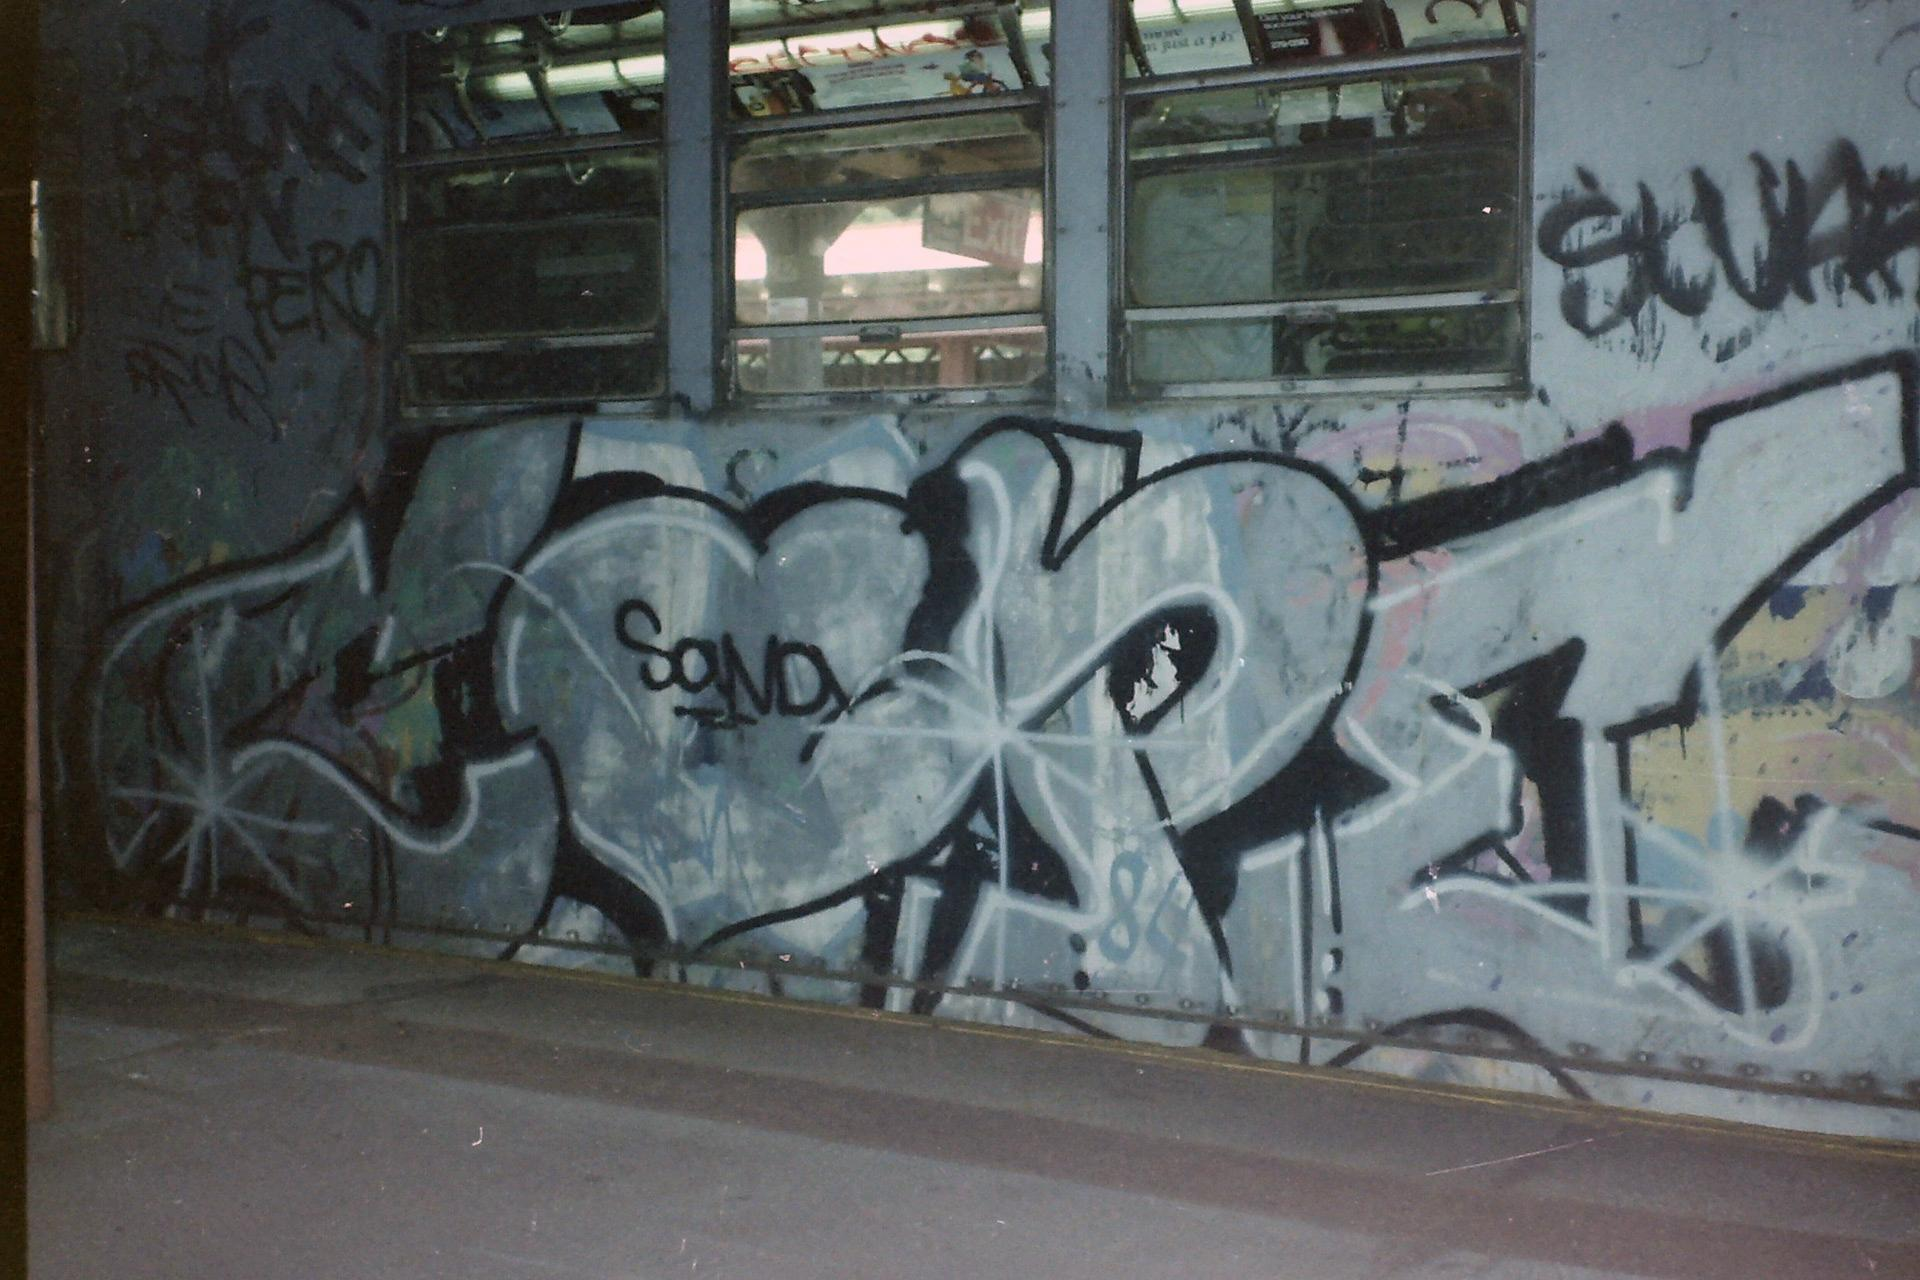graffiti: (60, 346, 1920, 1069), (50, 27, 403, 450), (1541, 177, 1914, 339)
